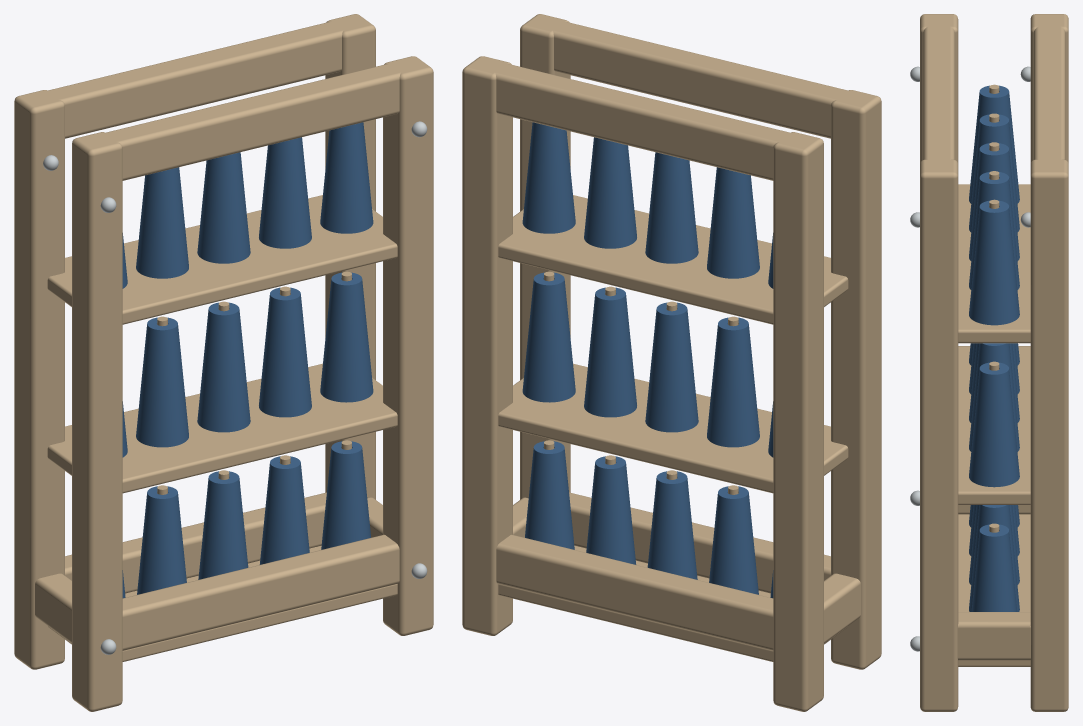
Rendered from textile-weaving-and-dye-workshop-yarn-cone-rack-4af47f6f__29548.glb.
3 views of the same model, side by side, from view 1: azimuth 30°, elevation 25°; view 2: azimuth 150°, elevation 25°; view 3: azimuth 270°, elevation 25° (orthographic). The views are drawn at different scales.
Parts seen in each view (by area): view 1: yarn-cone-rack; view 2: yarn-cone-rack; view 3: yarn-cone-rack.
Boxes of the visible parts, x1=… form: yarn-cone-rack: x1=14, y1=14, x2=433, y2=711; yarn-cone-rack: x1=462, y1=14, x2=881, y2=711; yarn-cone-rack: x1=910, y1=14, x2=1068, y2=711.
Bounding box in the file's own units: 0.9001 × 1.4 × 0.373.
